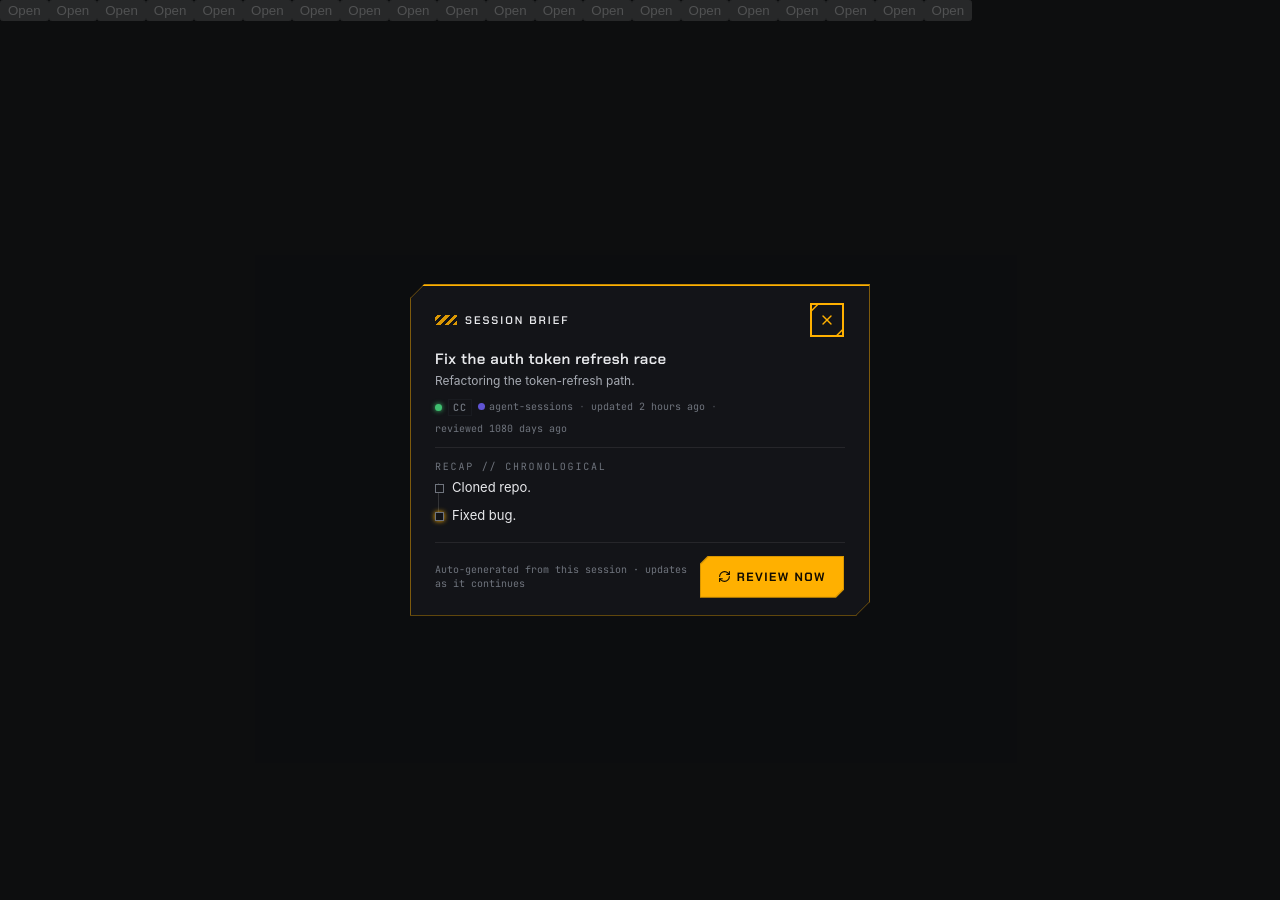
Scenario: 'Review now' on a session with no work says so and keeps the last brief
Click the button "Review now": (772, 577) [699,555,845,599]
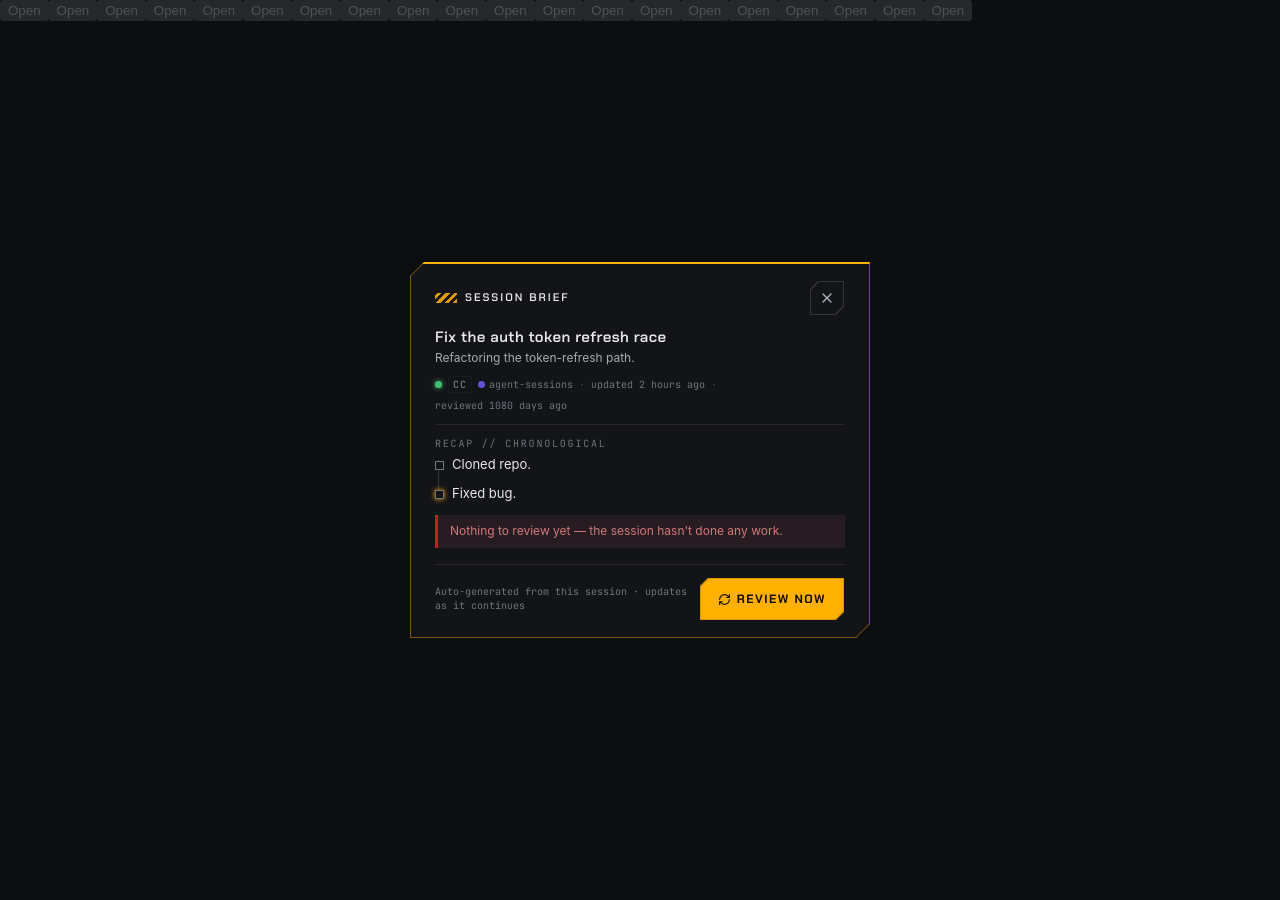
expect the text "Nothing to review yet — the session hasn't done any work." is shown: met, box [435,515,845,548]
